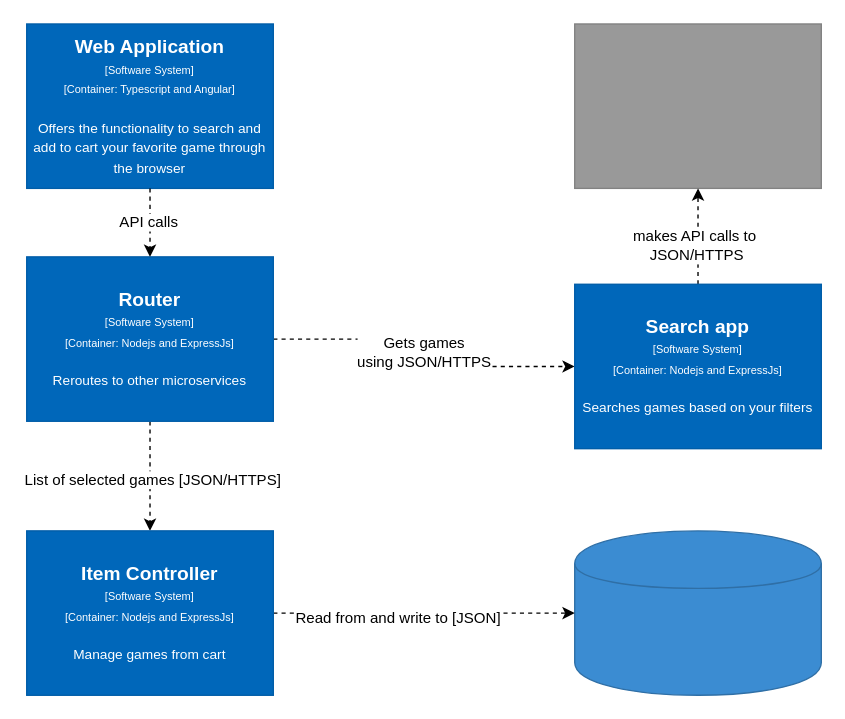
Some shapes in this 845 by 719 pixel diagram are drawn without their labels. The shapes that lost their labels are listed below. From the top down, each one's centre as x and y in pixels, then its label:
the point at 697,105: CD-Keys [Software System ] Public API that offer limited list of games
the point at 697,612: Container: mongodb [Container: database] There are stored all items from cart
